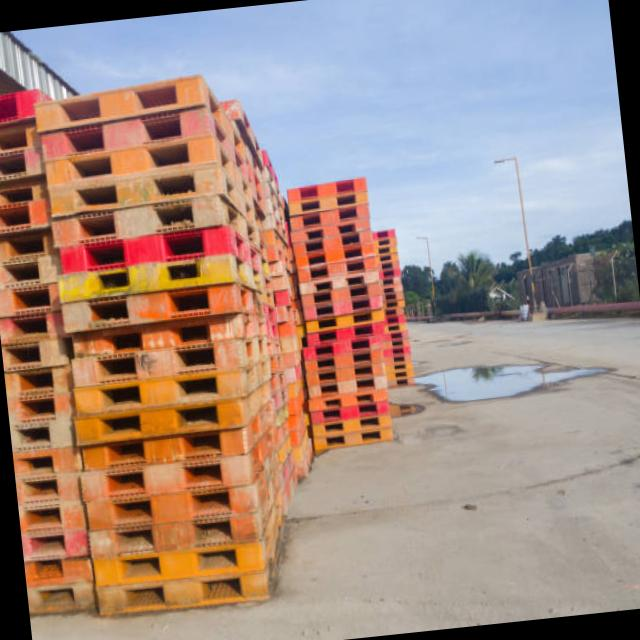Wooden-Pallets: (24, 71, 213, 140), (83, 441, 258, 507), (92, 536, 278, 594), (66, 272, 244, 331), (46, 160, 229, 216), (74, 364, 244, 409), (278, 175, 379, 209), (291, 222, 385, 256)
